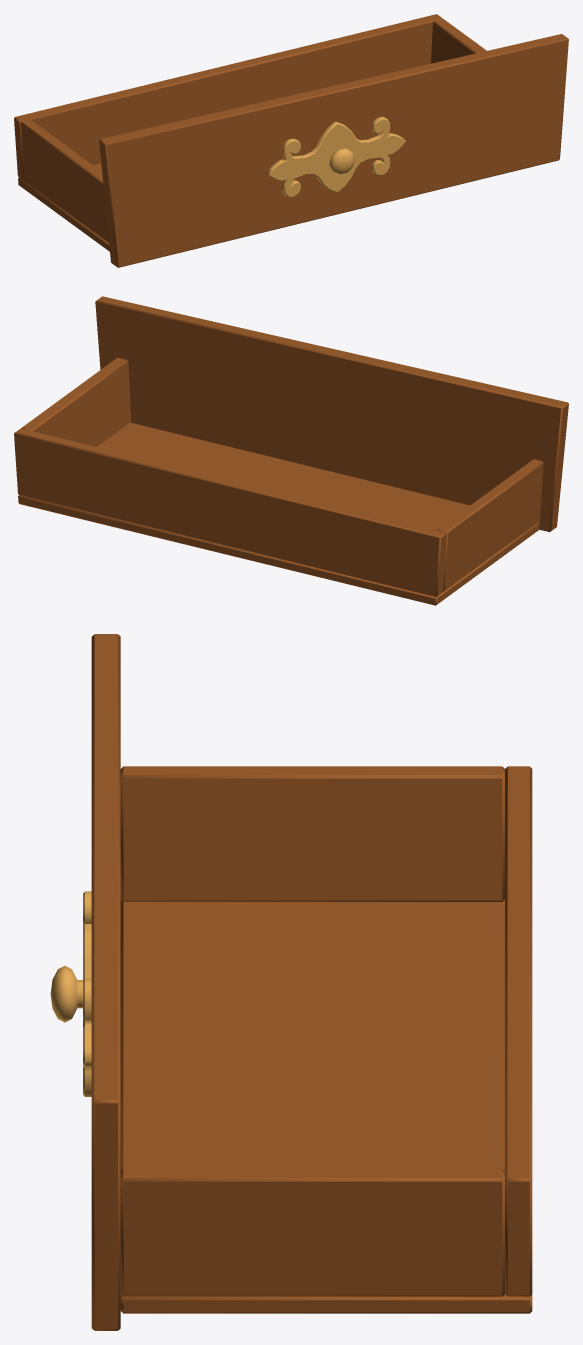
Rendered from Bookcase2_2.fbx.
The picture shows the model from 3 angles, top to bottom: view 1: azimuth 30°, elevation 25°; view 2: azimuth 150°, elevation 25°; view 3: azimuth 270°, elevation 25°; orthographic projection. The views are drawn at different scales.
Visible parts, largest first — view 1: Bookcase2_2; view 2: Bookcase2_2; view 3: Bookcase2_2.
Boxes of the visible parts, bbox=[...] form: Bookcase2_2: bbox=[14, 14, 568, 267]; Bookcase2_2: bbox=[14, 296, 568, 605]; Bookcase2_2: bbox=[50, 634, 532, 1330].
Bounding box in the file's own units: 1.09 × 0.2873 × 0.4921.
